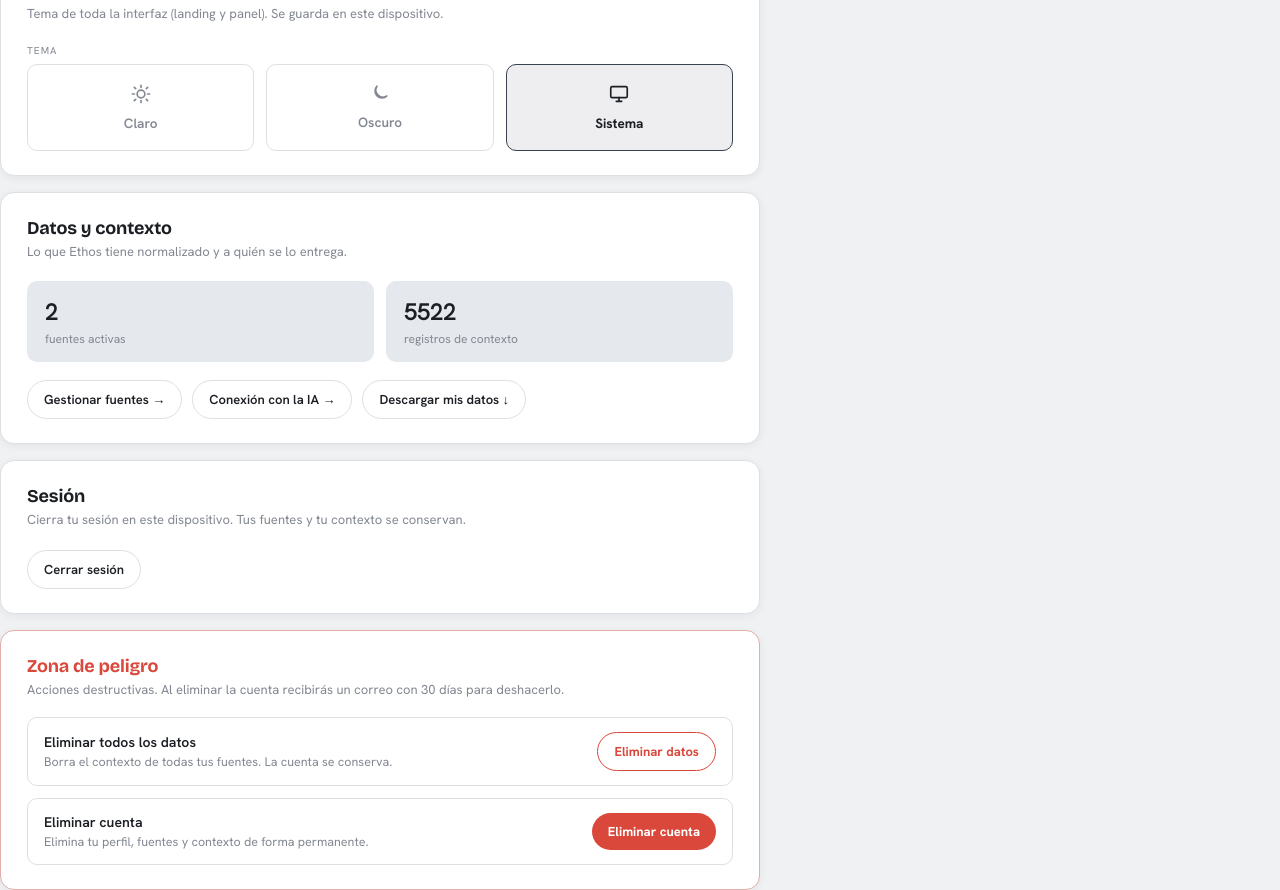
Scenario: Settings › elimina los datos tras confirmar en el diálogo
(page scrolled)
Click the button "Eliminar datos" at (657, 752), box top-left (597, 732), bottom-right (716, 771)
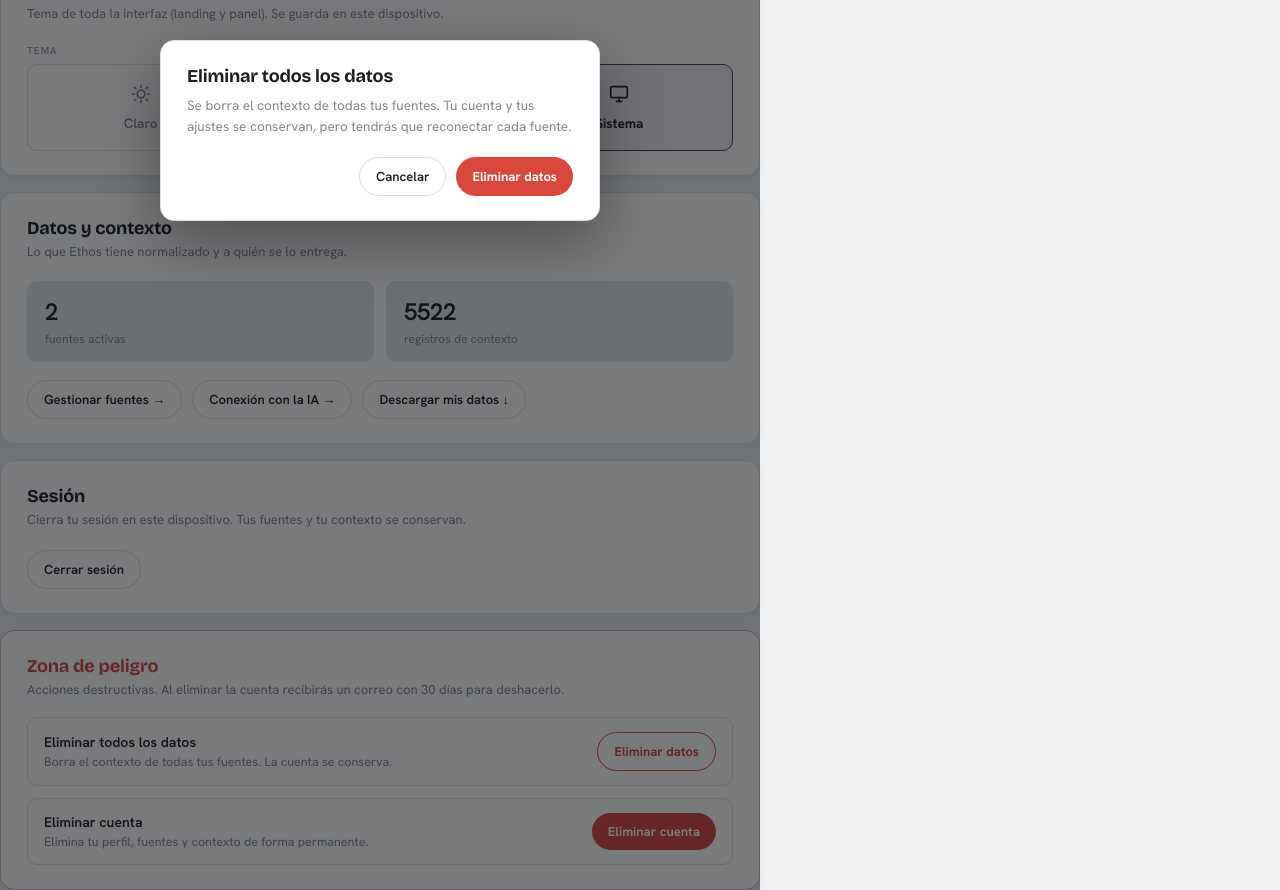
Click the button "Eliminar datos" at (515, 176), box top-left (456, 157), bottom-right (573, 196)
(page scrolled)
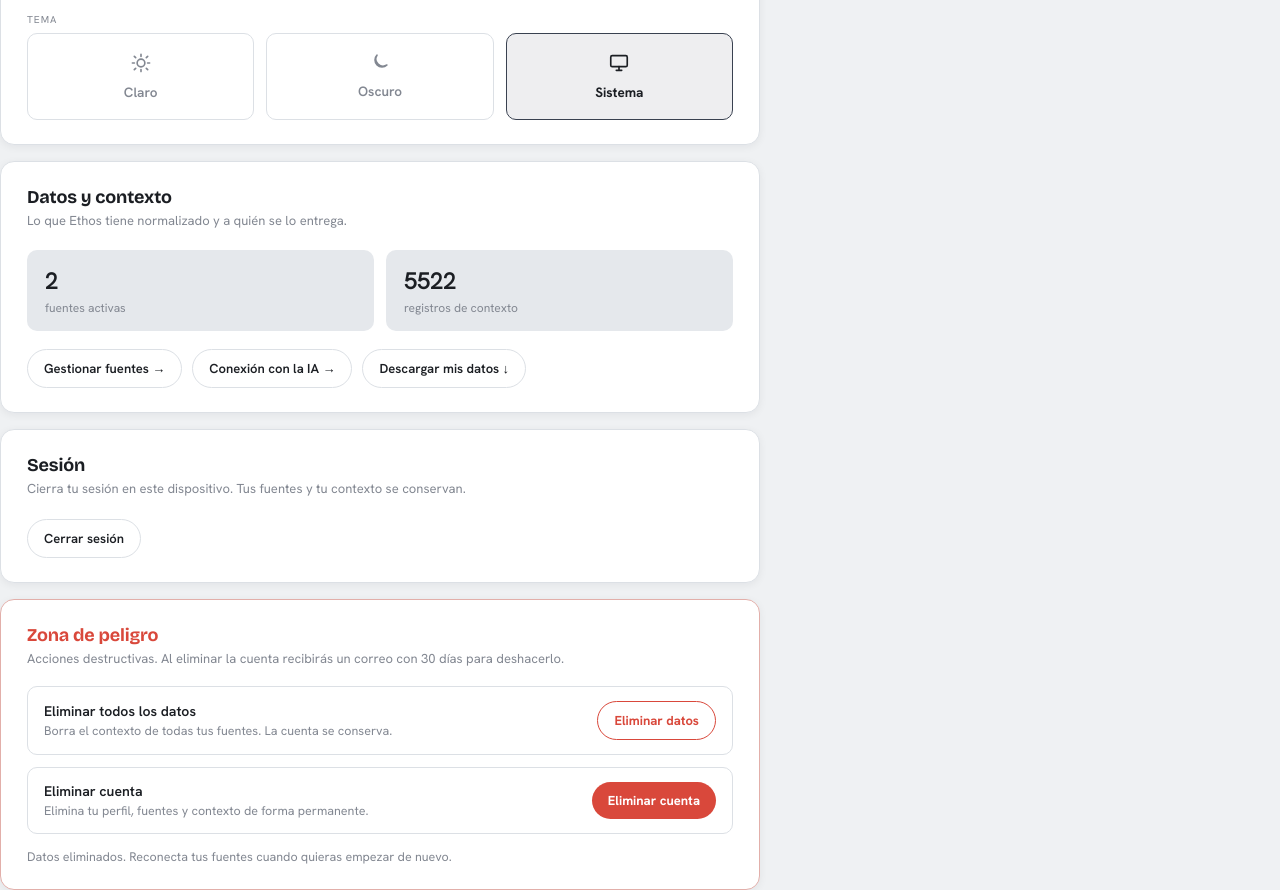
Result: the text "Datos eliminados" is shown at top-left (27, 848), bottom-right (452, 865)
